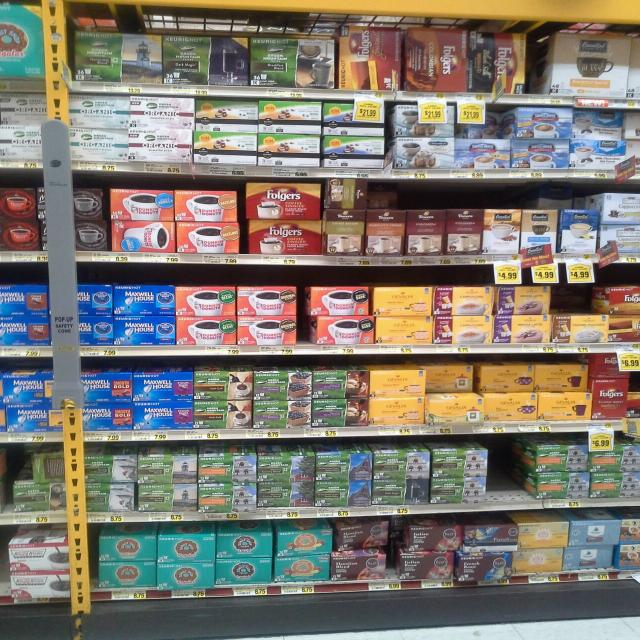void: (493, 445, 527, 515)
